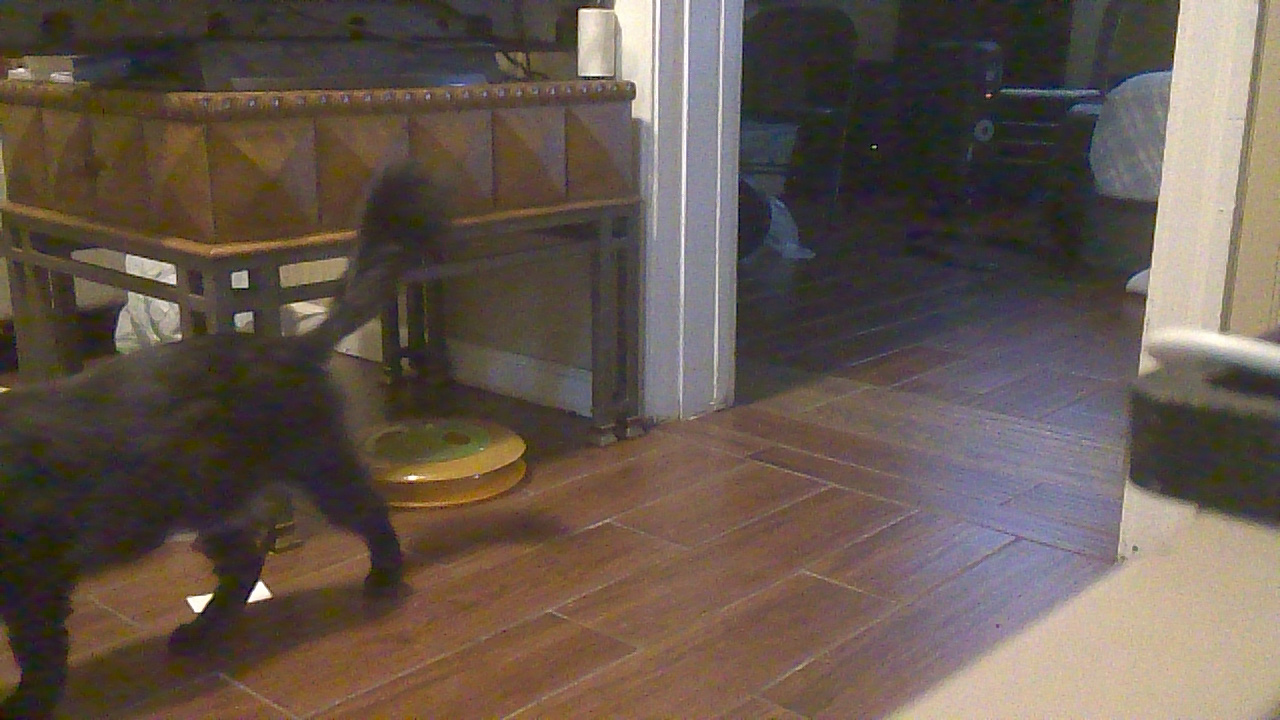cat: (1, 141, 481, 715)
